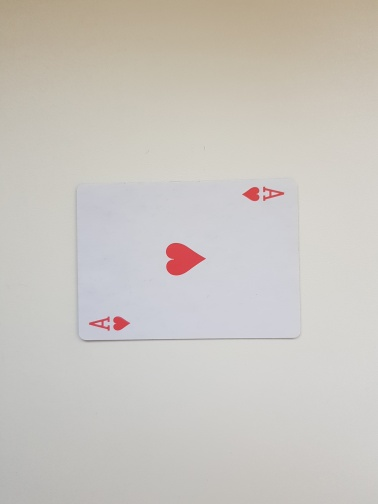ace: (75, 175, 302, 344)
